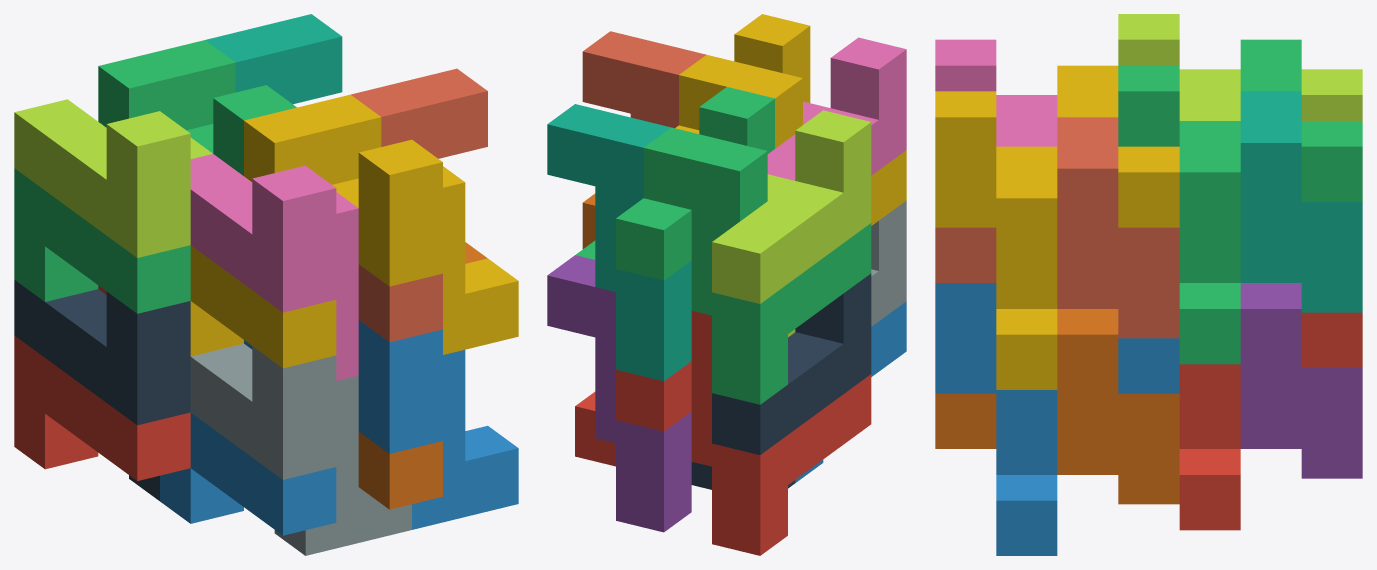
File: tiling.obj
3 renders of one model, left to right at view 1: azimuth 30°, elevation 25°; view 2: azimuth 150°, elevation 25°; view 3: azimuth 270°, elevation 25°, orthographic. The views are drawn at different scales.
Visible parts, largest first — view 1: copy_1_domain_3, copy_2_domain_2, copy_2_domain_4, copy_2_domain_3, copy_2_domain_8, copy_1_domain_4, copy_2_domain_6, copy_2_domain_1, copy_1_domain_1, copy_1_domain_8, copy_1_domain_2, copy_1_domain_7 (+2 smaller); view 2: copy_1_domain_3, copy_1_domain_7, copy_2_domain_3, copy_1_domain_1, copy_1_domain_5, copy_2_domain_1, copy_2_domain_7, copy_2_domain_4, copy_1_domain_8, copy_1_domain_4, copy_2_domain_5, copy_2_domain_8 (+3 smaller); view 3: copy_2_domain_8, copy_2_domain_7, copy_1_domain_8, copy_2_domain_6, copy_1_domain_6, copy_1_domain_7, copy_1_domain_5, copy_2_domain_5, copy_2_domain_3, copy_2_domain_4, copy_1_domain_3, copy_1_domain_4.
Part boxes in pixels (box(x1,y1,x2,y2)): copy_1_domain_3: box(14, 40, 235, 313); copy_2_domain_2: box(190, 343, 411, 555); copy_2_domain_4: box(190, 154, 358, 380); copy_2_domain_3: box(14, 99, 212, 257); copy_2_domain_8: box(332, 139, 518, 354); copy_1_domain_4: box(190, 94, 381, 368); copy_2_domain_6: box(358, 320, 518, 529); copy_2_domain_1: box(14, 280, 190, 500); copy_1_domain_1: box(14, 285, 190, 480); copy_1_domain_8: box(351, 68, 487, 342); copy_1_domain_2: box(160, 340, 336, 535); copy_1_domain_7: box(205, 14, 342, 104); copy_1_domain_3: box(643, 127, 871, 404); copy_1_domain_7: box(547, 104, 691, 381); copy_2_domain_3: box(712, 110, 871, 337); copy_1_domain_1: box(691, 311, 871, 555); copy_1_domain_5: box(547, 255, 691, 532); copy_2_domain_1: box(691, 273, 871, 489); copy_2_domain_7: box(575, 87, 774, 280); copy_2_domain_4: box(767, 37, 906, 180); copy_1_domain_8: box(582, 31, 705, 128); copy_1_domain_4: box(679, 54, 906, 225); copy_2_domain_5: box(575, 361, 691, 466); copy_2_domain_8: box(675, 14, 810, 133); copy_2_domain_8: box(935, 91, 1179, 389); copy_2_domain_7: box(1118, 65, 1362, 364); copy_1_domain_8: box(935, 117, 1179, 338); copy_2_domain_6: box(935, 283, 1179, 555); copy_1_domain_6: box(935, 309, 1179, 504); copy_1_domain_7: box(1240, 91, 1362, 312); copy_1_domain_5: box(1240, 283, 1362, 478); copy_2_domain_5: box(1179, 312, 1362, 530); copy_2_domain_3: box(1118, 14, 1362, 120); copy_2_domain_4: box(935, 39, 1057, 146); copy_1_domain_3: box(1240, 39, 1301, 91); copy_1_domain_4: box(1057, 65, 1118, 117).
Bounding box in the file's own units: 6 × 7 × 7.
